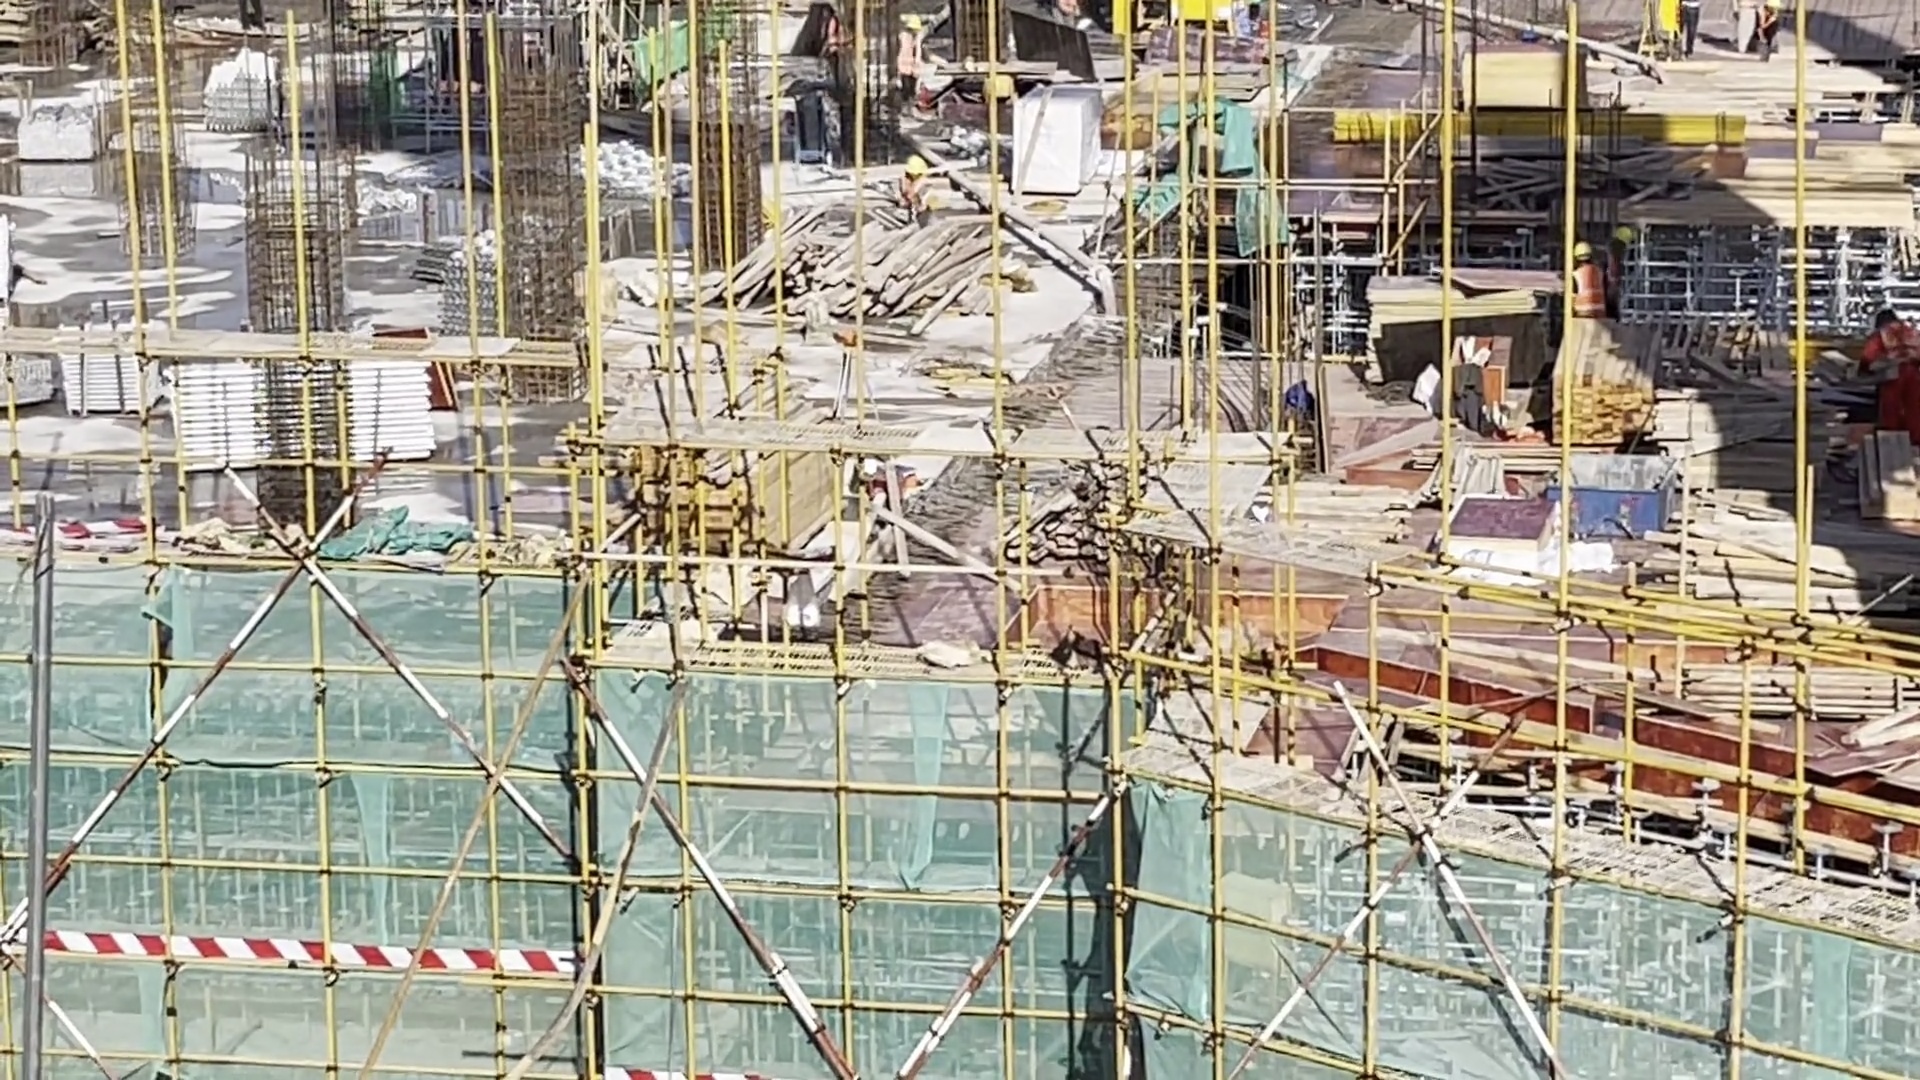helmet: (1571, 240, 1601, 275), (903, 150, 926, 187), (1612, 224, 1632, 245), (905, 14, 927, 27)
hopper: (1555, 453, 1692, 549)
person: (1827, 293, 1911, 433), (1563, 243, 1602, 325), (1599, 227, 1633, 323), (891, 13, 922, 109), (893, 152, 934, 223), (1742, 1, 1776, 58)
scaffold: (143, 333, 428, 481), (197, 44, 295, 134), (59, 323, 154, 415)
vest: (897, 29, 920, 78), (1574, 269, 1598, 311)
wood: (603, 348, 833, 560), (711, 198, 1006, 350), (1667, 641, 1920, 750), (1545, 339, 1663, 475)
